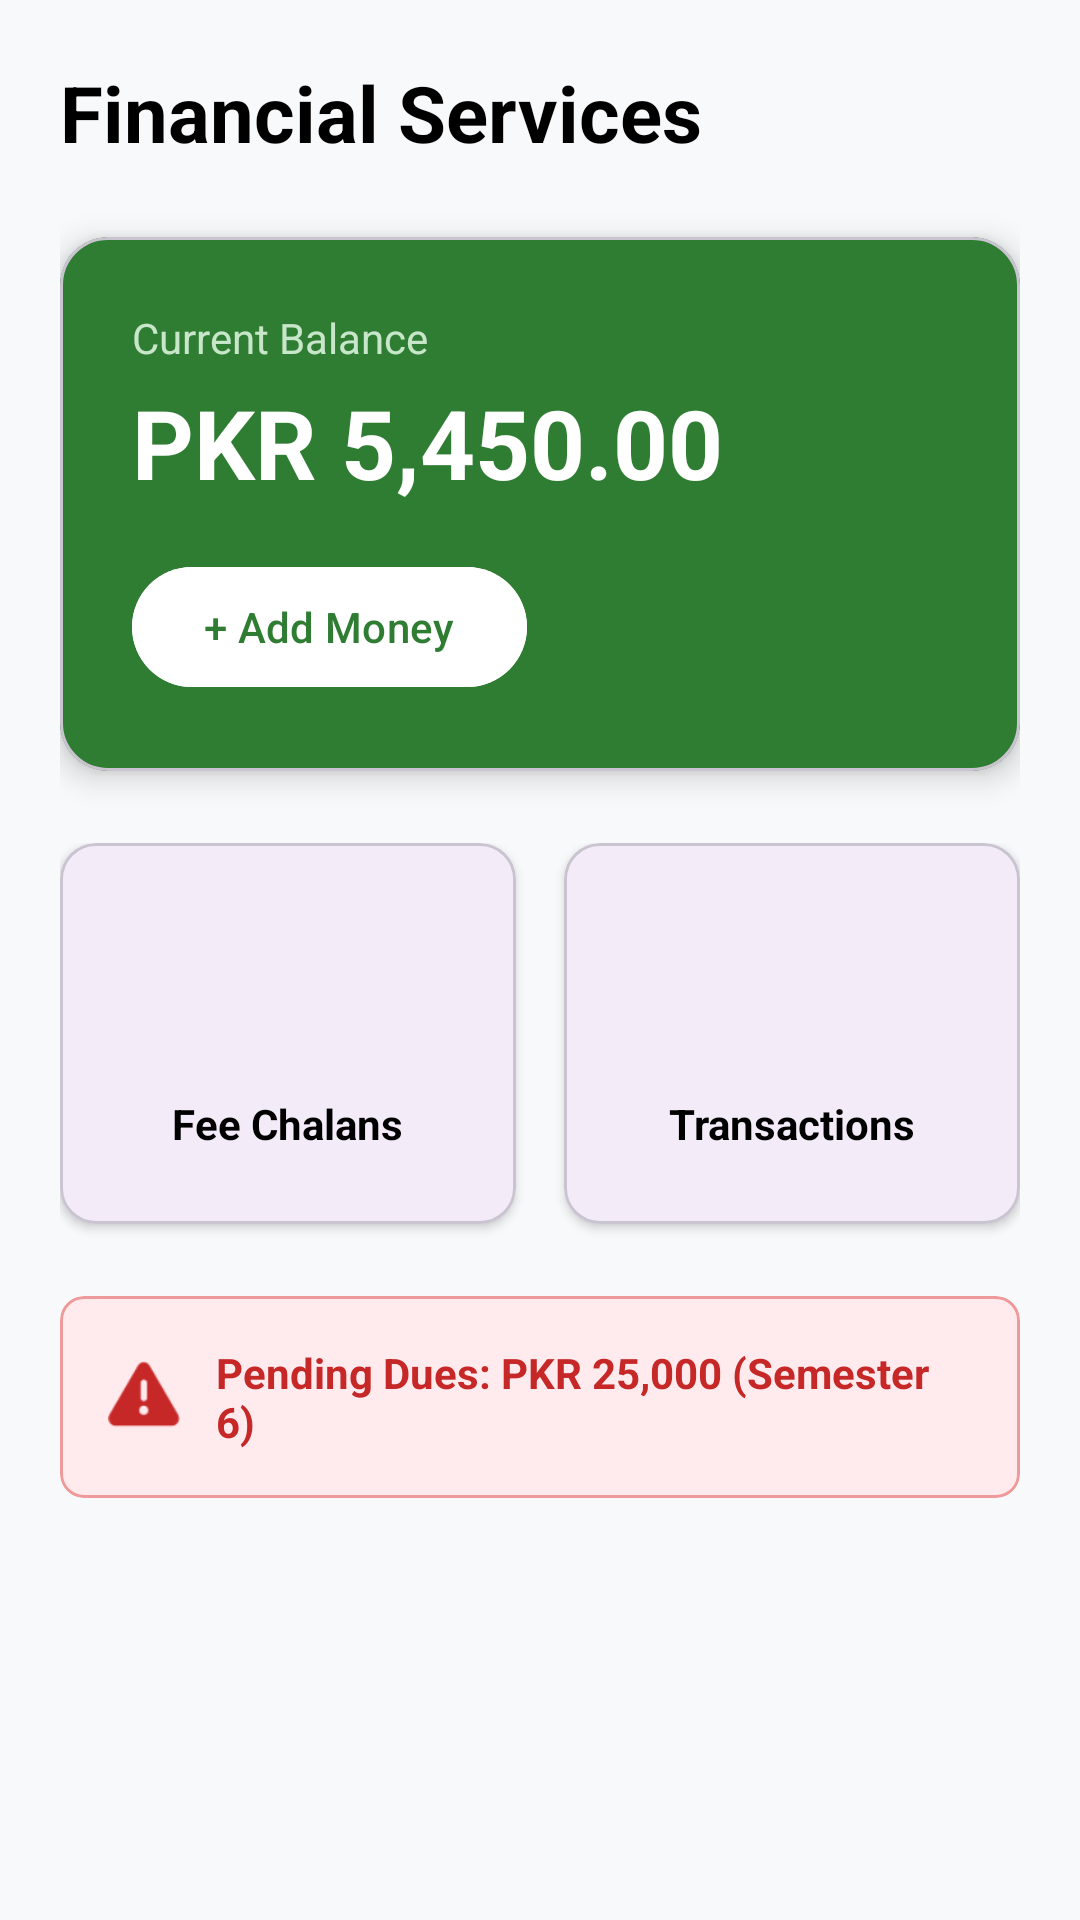

Where icons sit on this 1080px x 1920px app screen, as (x1, y1, x2, y2):
alert: (108, 1361, 180, 1427)
